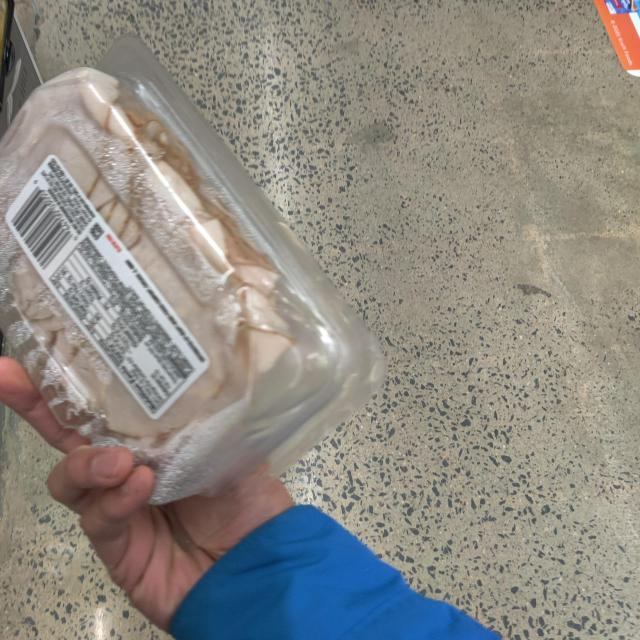Meat: (5, 47, 373, 523)
